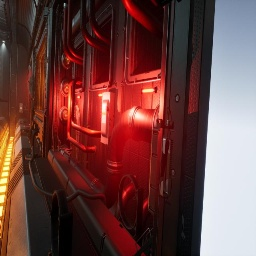EmergencyPhone ,: (148, 107, 175, 216), (24, 105, 26, 110), (25, 107, 26, 108)
FireExtinguisher ]: (9, 139, 14, 146)
SafetySwitchPanel ,: (100, 91, 115, 146), (28, 77, 32, 94), (19, 103, 23, 113)
